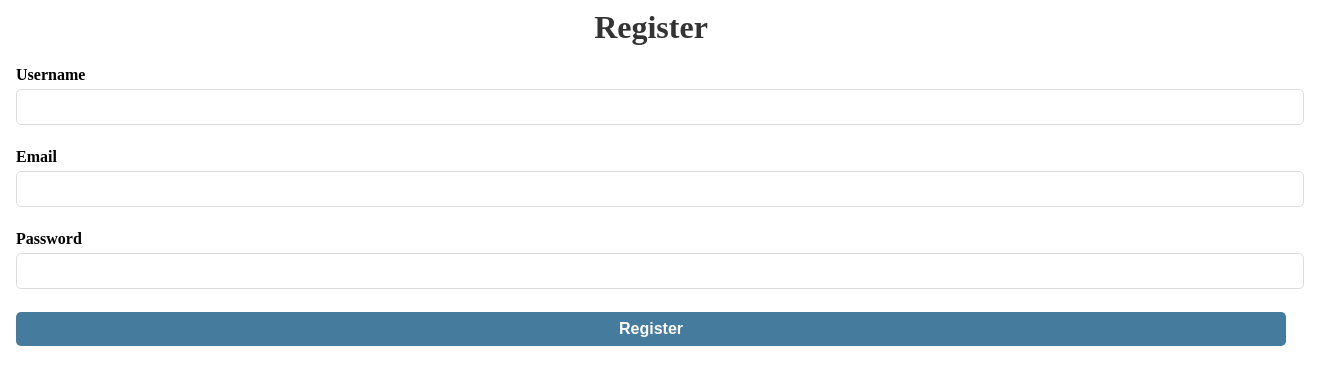
Register › shows error if username is invalid (only numbers)
The image size is (1321, 391).
Type "123456" into the field labelled "Username" at point(660, 107), box [16,89,1304,125]
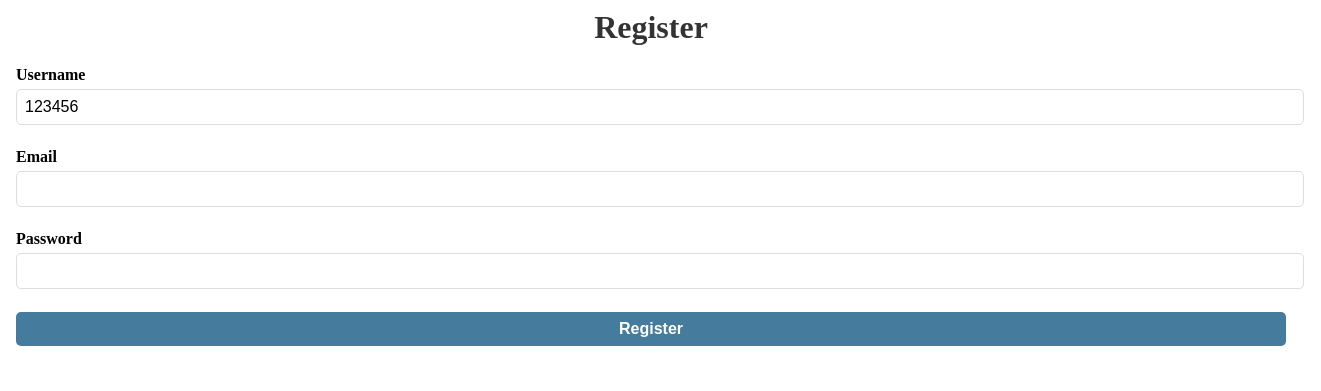
Type "test@example.com" into the field labelled "Email" at point(660, 189), box [16,171,1304,207]
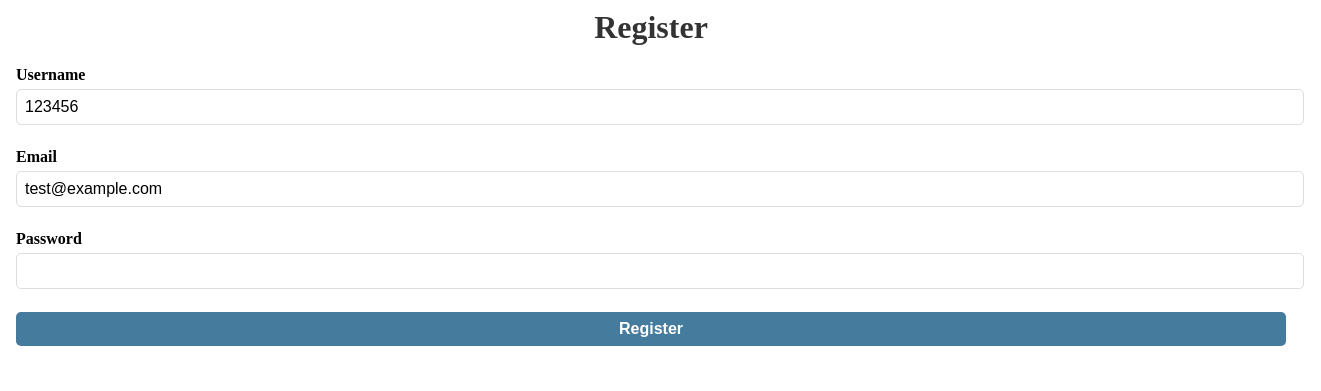
Type "Pass@123" into the password field labelled "Password" at point(660, 271), box [16,253,1304,289]
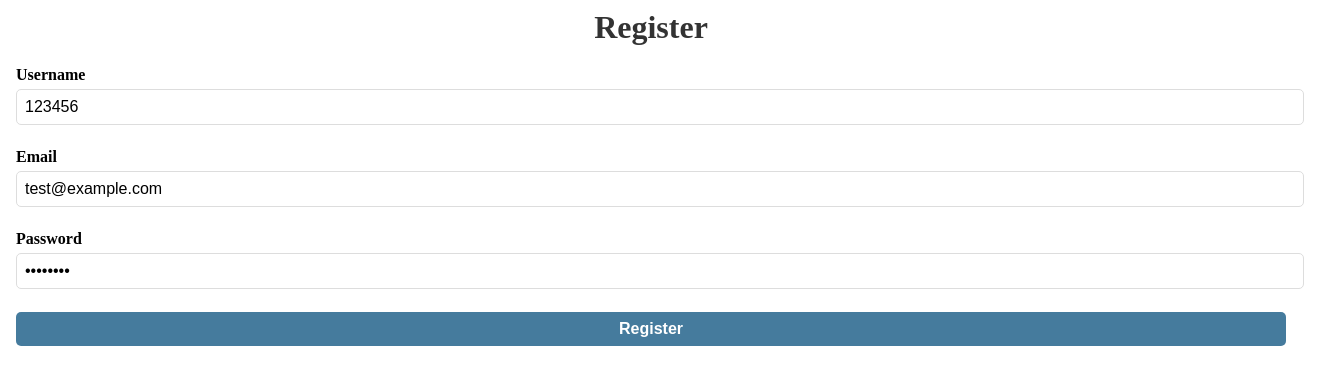
Click the button "Register" at point(651, 329), box [16,312,1286,346]
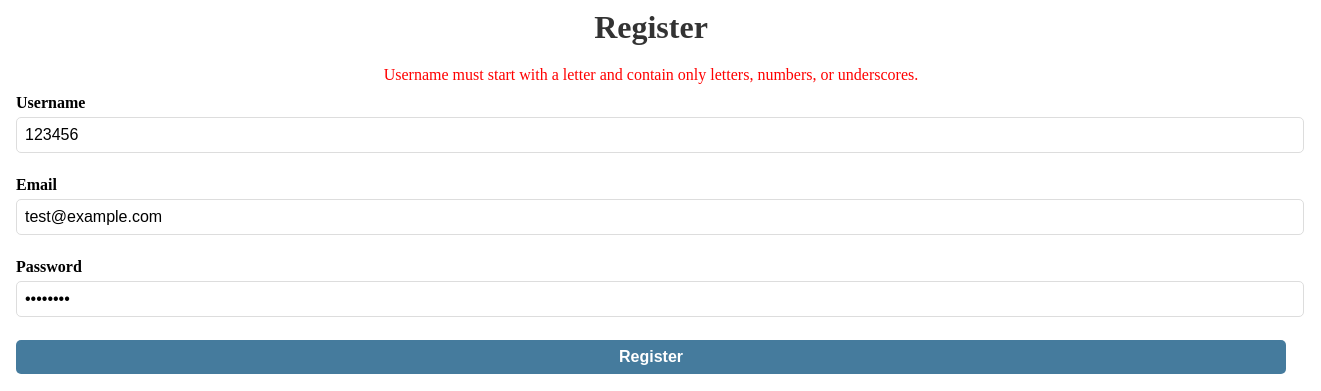
Expected: the text "Username must start with a letter" is shown, [384,66,918,83]
